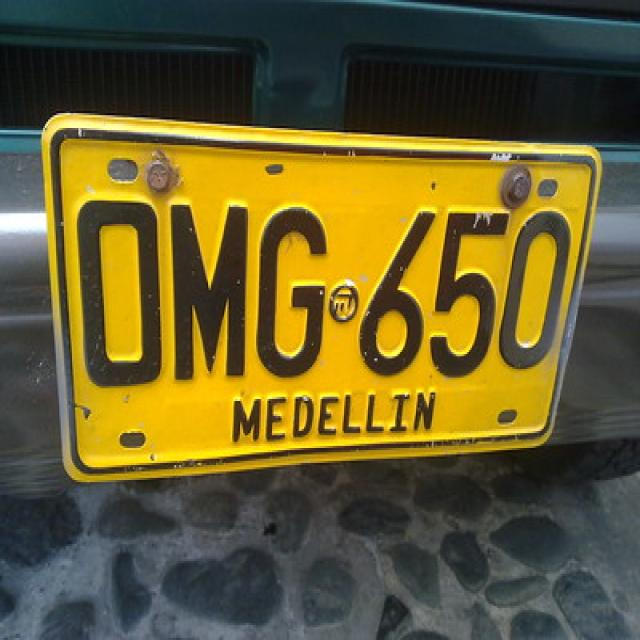placa_carro: (44, 107, 608, 492)
